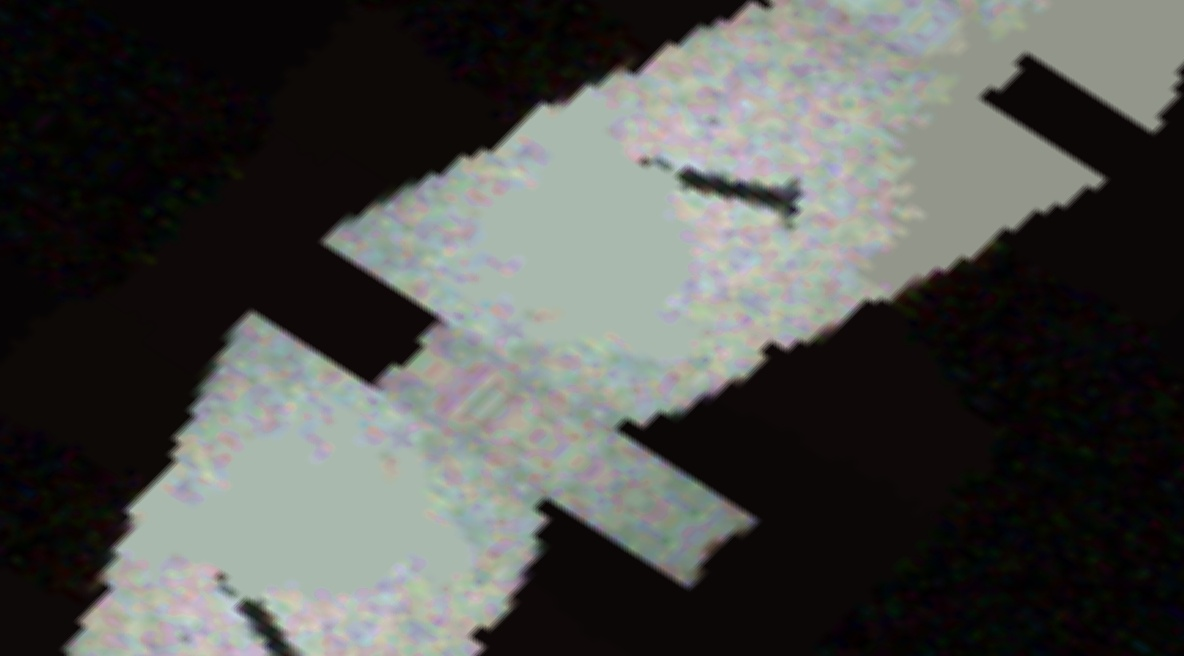S001: (555, 66, 844, 280)
